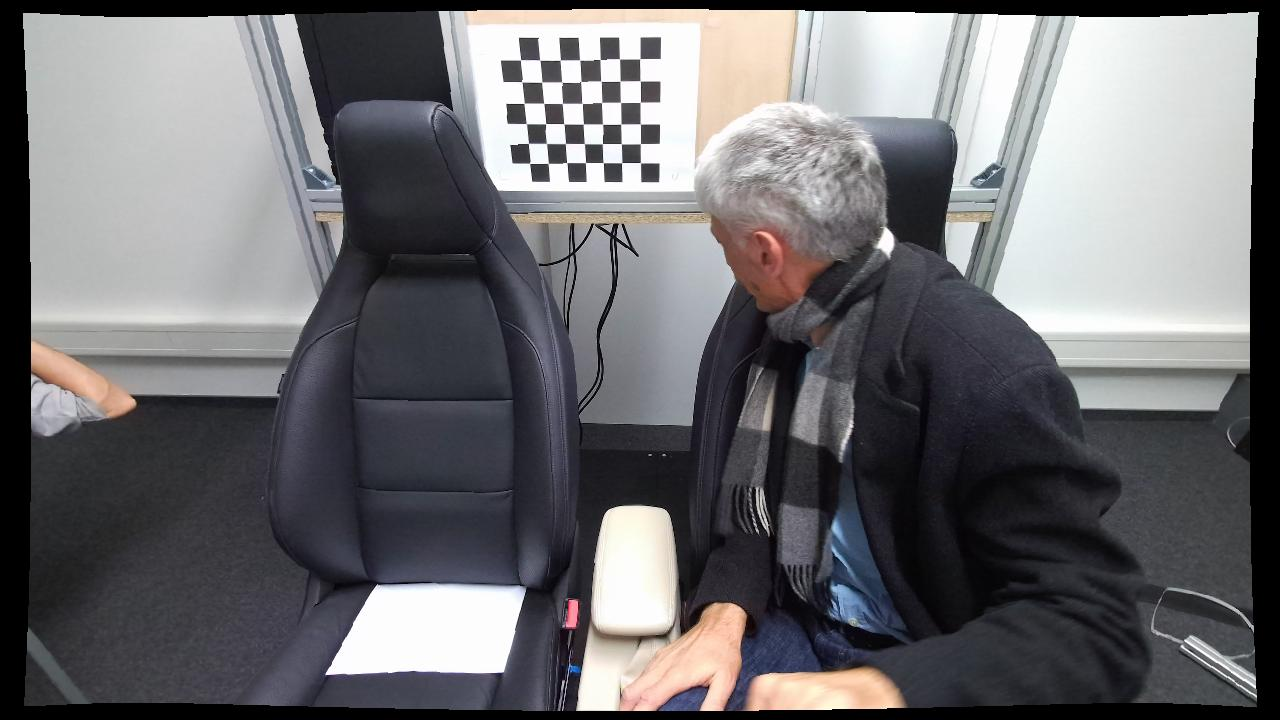Distracted: (661, 104, 1076, 707)
